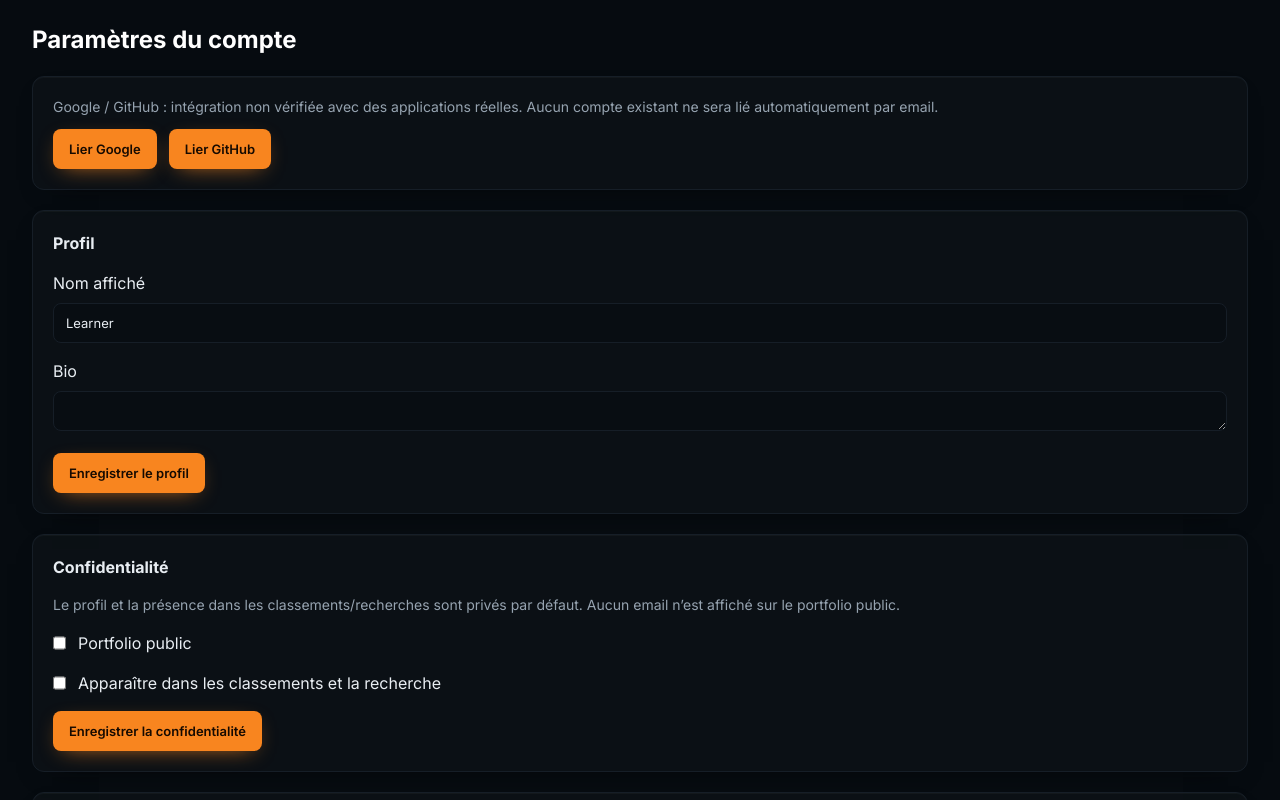
Test: real account settings › persists privacy choices and only acknowledges server success
Click the checkbox labelled "Portfolio public" at (60, 643), box [53, 631, 66, 655]
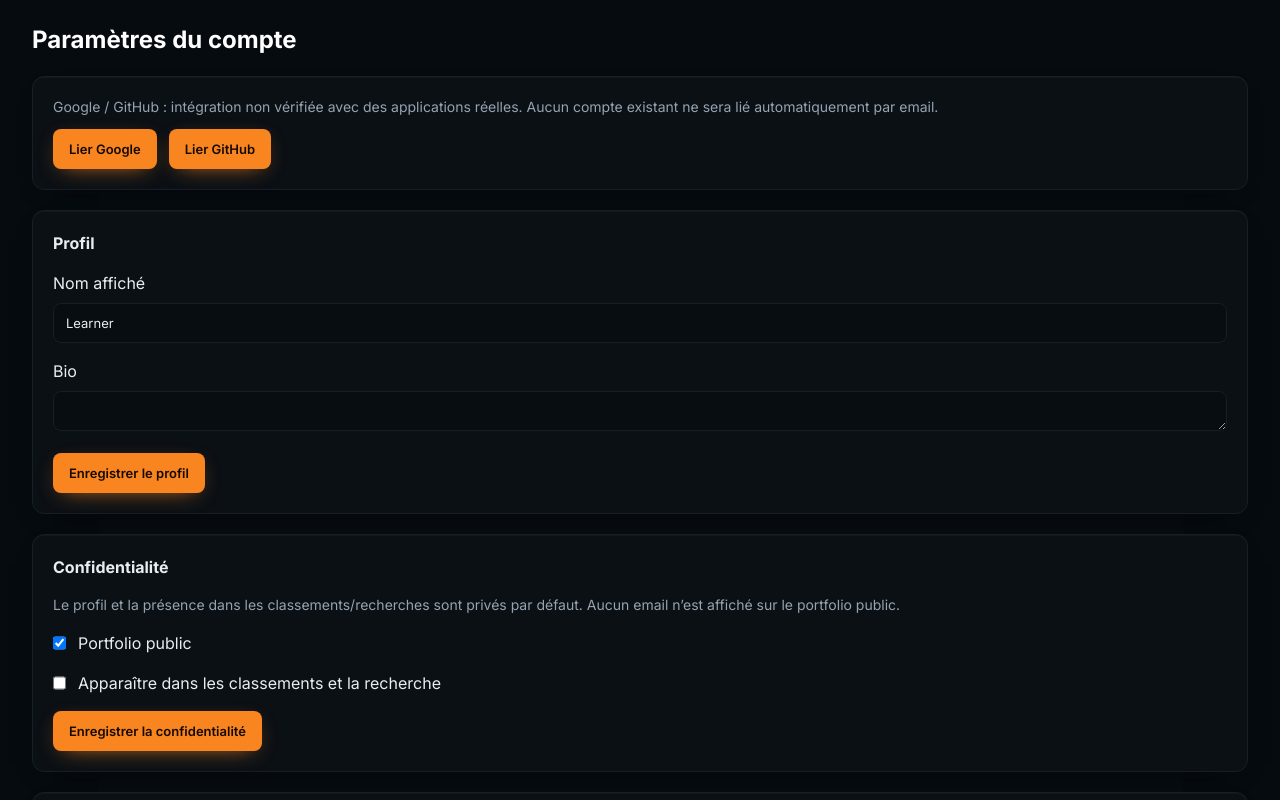
Click the button "Enregistrer la confidentialité" at (157, 731), box [53, 711, 262, 751]
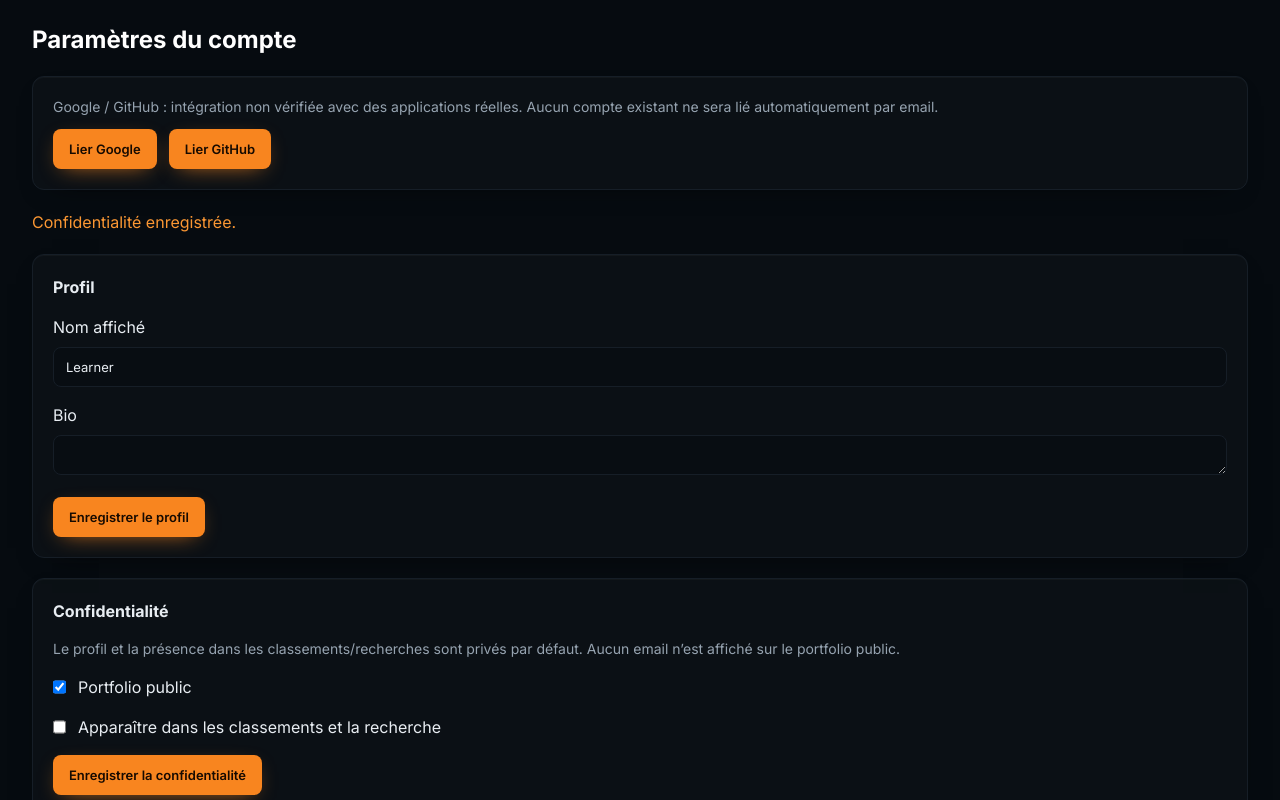
Expected: the message reads "Confidentialité enregistrée.", [32, 212, 236, 232]
